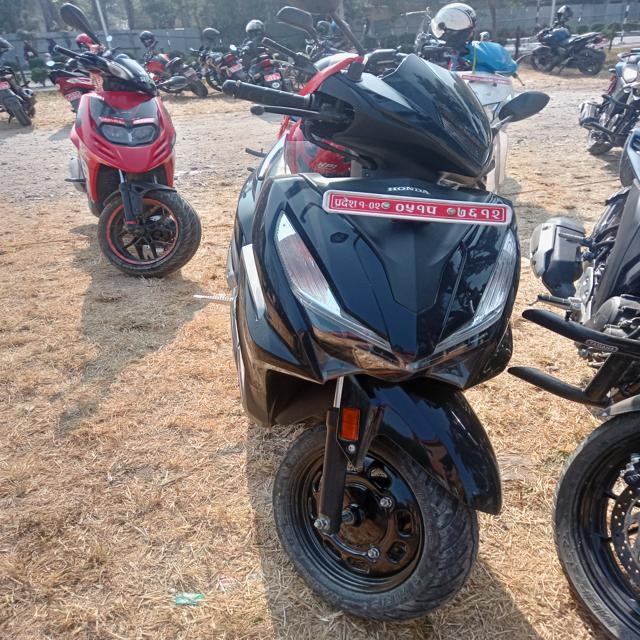license_plate: (318, 170, 526, 244)
